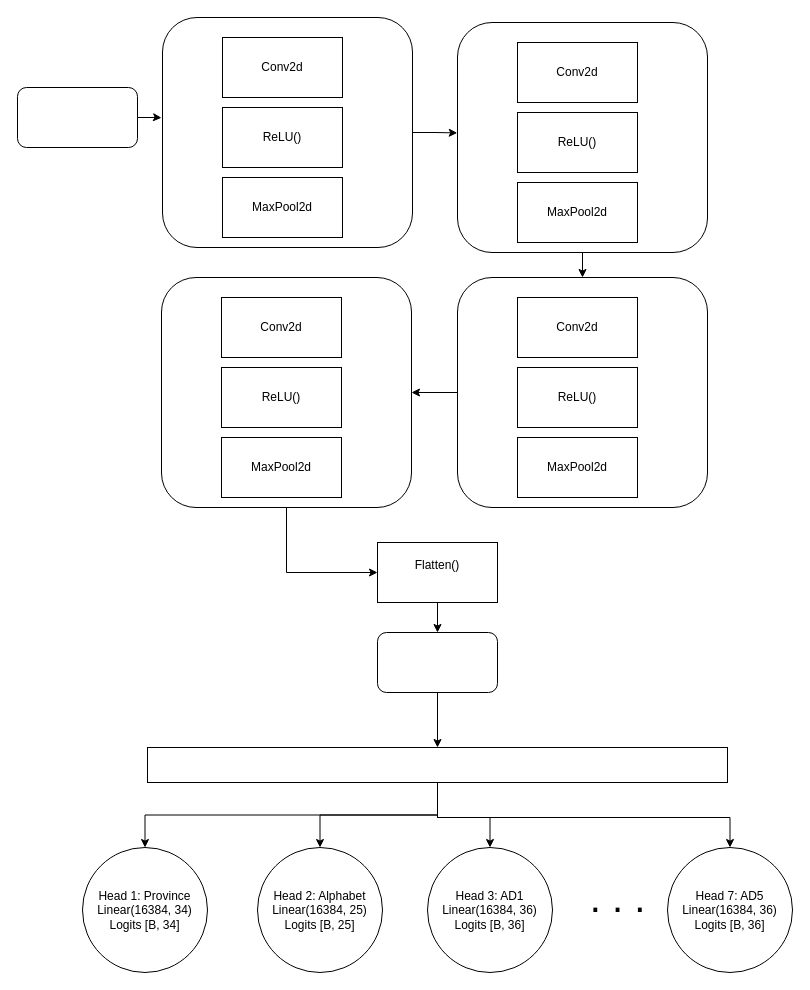
Some shapes in this 810 by 990 pixel diagram are drawn without their labels. The shapes that lost their labels are listed below. From the top down, each one's centre as x and y in pixels, then its label:
the point at 77,117: Input image [Batch Size, 3, 64, 128]
the point at 437,662: Feature Vector [B, 16384]
